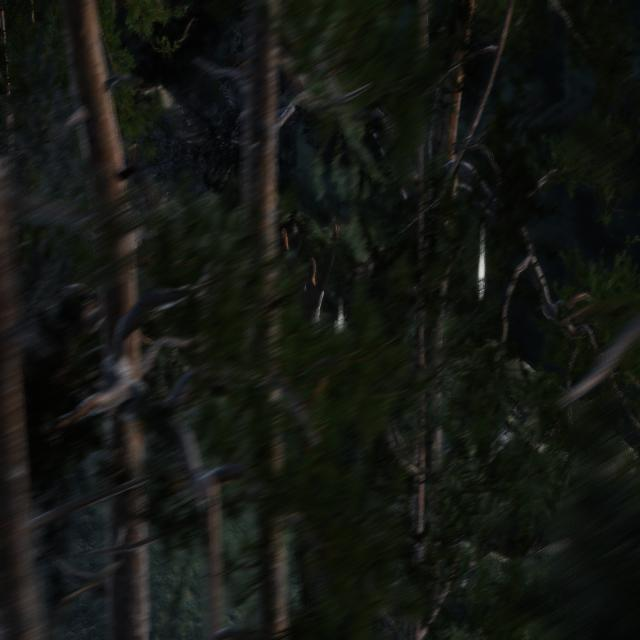Human: (285, 223, 336, 387)
